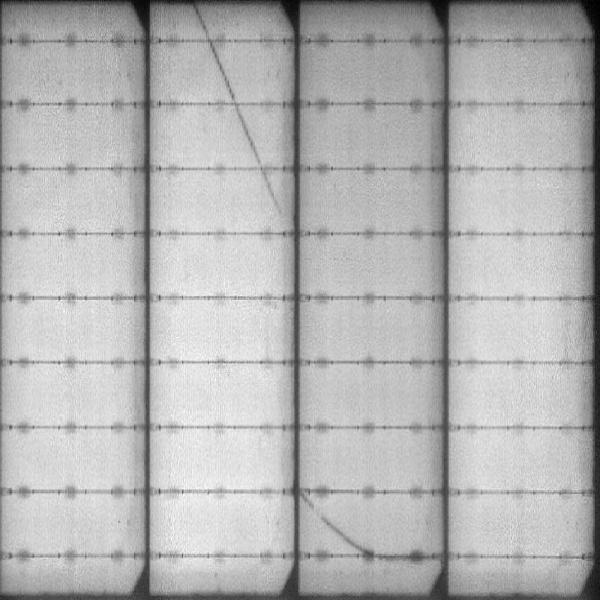scratch: (302, 497, 399, 549), (230, 106, 271, 166), (207, 42, 242, 100), (257, 174, 282, 217), (186, 6, 218, 37)
